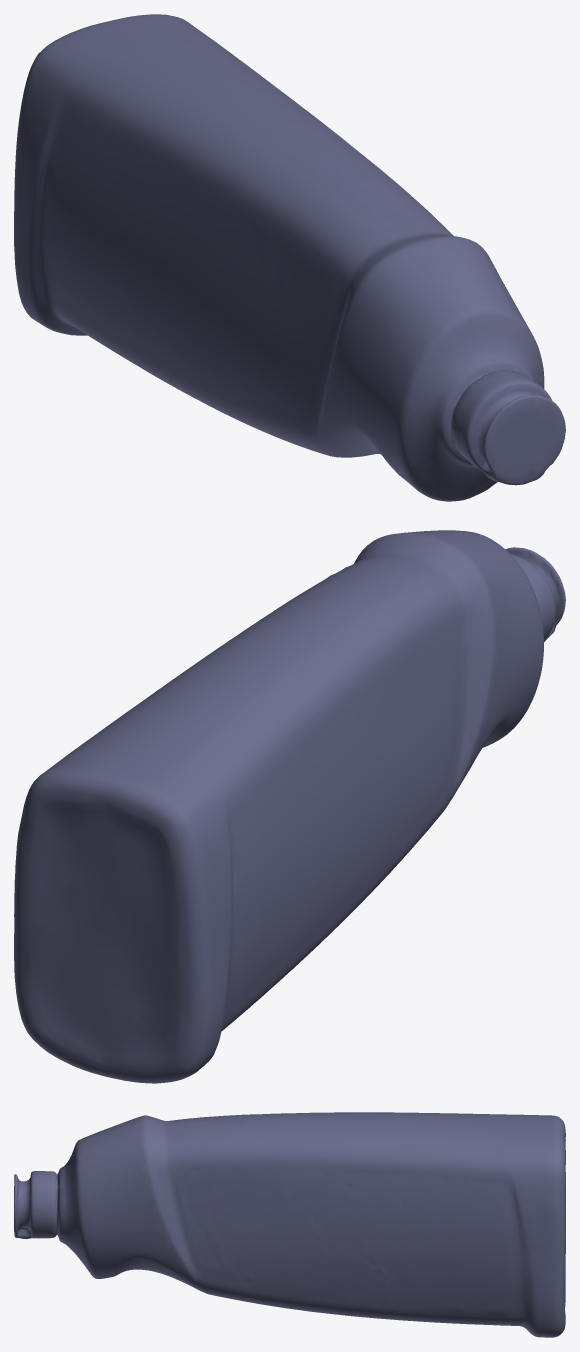
The picture shows the model from 3 angles, top to bottom: view 1: azimuth 30°, elevation 25°; view 2: azimuth 150°, elevation 25°; view 3: azimuth 270°, elevation 25°; orthographic projection. The views are drawn at different scales.
Size of the model in its own units: 0.0677 by 0.1024 by 0.2506.
